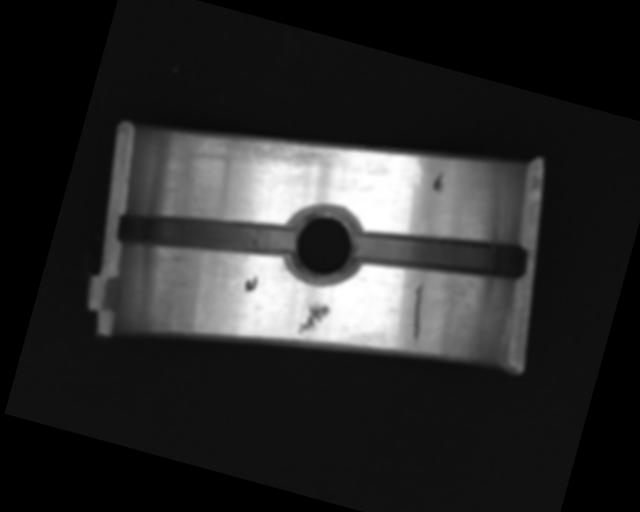blot: (241, 271, 260, 295)
bruise: (296, 299, 330, 340), (431, 170, 447, 193)
gap: (115, 184, 298, 285), (352, 206, 528, 305)
hole: (279, 197, 370, 289)
nick: (401, 282, 433, 348)
scratch: (189, 109, 343, 194)
